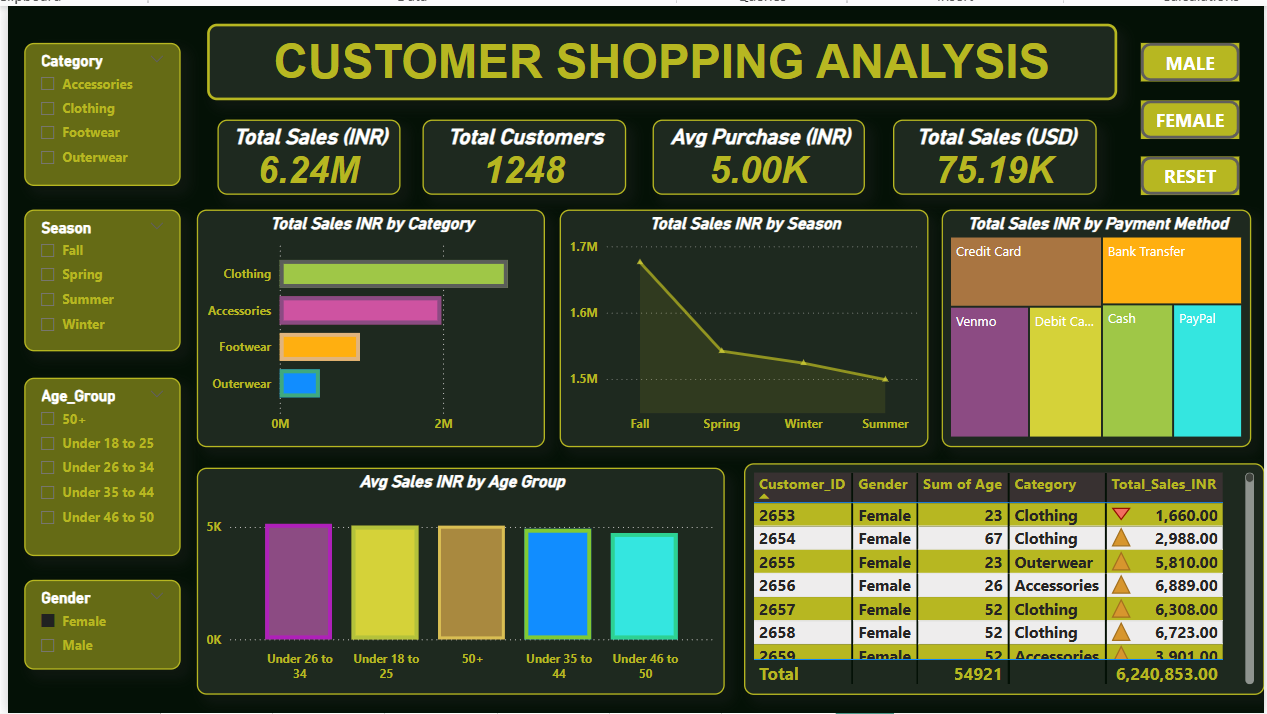

This screenshot's page, from the dashboard's own definition file:
{"tool":"powerbi","page":{"name":"Main","canvas":[1280,720],"ordinal":0},"visuals":[{"type":"card","title":"Total Sales (INR)","fields":{"Values":["Measure.Total_Sales_INR"]},"box":[213.3,115.7,186.3,76.6],"z":0},{"type":"card","title":"Total Customers","fields":{"Values":["Measure.Total_Customers"]},"box":[422.1,115.7,207.3,76.6],"z":1000},{"type":"card","title":"Avg Purchase (INR)","fields":{"Values":["Measure.Avg_Sales_INR"]},"box":[656.4,115.7,216.3,76.6],"z":2000},{"type":"card","title":"Total Sales (USD)","fields":{"Values":["Measure.Total_Sales_USD"]},"box":[901.2,115.7,207.3,76.6],"z":3000},{"type":"textbox","box":[202.8,18,926.8,78.1],"z":4000},{"type":"barChart","title":"Total Sales INR by Category","fields":{"Category":["shopping shopping_trends.Category"],"Y":["Measure.Total_Sales_INR"]},"box":[192.3,207.3,354.5,241.8],"z":5000},{"type":"columnChart","title":"Avg Sales INR by Age Group","fields":{"Category":["shopping shopping_trends.Age_Group"],"Y":["Measure.Avg_Sales_INR"]},"box":[192.3,470.1,537.7,231.3],"z":6000},{"type":"treemap","title":"Total Sales INR by Payment Method","fields":{"Group":["shopping shopping_trends.Payment_Method"],"Values":["Measure.Total_Sales_INR"]},"box":[950.8,207.3,315.4,241.8],"z":7000},{"type":"slicer","fields":{"Values":["shopping shopping_trends.Category"]},"box":[16.5,37.6,159.2,145.7],"z":8000},{"type":"slicer","fields":{"Values":["shopping shopping_trends.Age_Group"]},"box":[16.5,378.5,159.2,181.7],"z":10000},{"type":"slicer","fields":{"Values":["shopping shopping_trends.Season"]},"box":[16.5,207.3,159.2,144.2],"z":11000},{"type":"lineChart","title":"Total Sales INR by Season","fields":{"Category":["shopping shopping_trends.Season"],"Y":["Measure.Total_Sales_INR"]},"box":[561.8,207.3,375.5,241.8],"z":12000},{"type":"tableEx","fields":{"Values":["shopping shopping_trends.Customer_ID","shopping shopping_trends.Gender","Sum(shopping shopping_trends.Age)","shopping shopping_trends.Category","Measure.Total_Sales_INR"]},"box":[749.5,465.6,530.2,235.8],"z":13000},{"type":"slicer","fields":{"Values":["shopping shopping_trends.Gender"]},"box":[16.5,584.3,159.2,91.6],"z":14000},{"type":"actionButton","box":[1153.6,37.6,100.6,39.1],"z":15000},{"type":"actionButton","box":[1153.6,96.1,100.6,39.1],"z":16000},{"type":"actionButton","box":[1153.6,153.2,100.6,39.1],"z":17000}]}

Visuals, with their boxes in screenshot pixels (x1, y1, x2, y2), scaled from the page's 1280x720 canvas onto the 1267x714 screenshot:
"Total Sales (INR)" card: <box>211,115,396,191</box>
"Total Customers" card: <box>418,115,623,191</box>
"Avg Purchase (INR)" card: <box>650,115,864,191</box>
"Total Sales (USD)" card: <box>892,115,1097,191</box>
textbox: <box>201,18,1118,95</box>
"Total Sales INR by Category" barChart: <box>190,206,541,445</box>
"Avg Sales INR by Age Group" columnChart: <box>190,466,723,696</box>
"Total Sales INR by Payment Method" treemap: <box>941,206,1253,445</box>
slicer - shopping shopping_trends.Category: <box>16,37,174,182</box>
slicer - shopping shopping_trends.Age_Group: <box>16,375,174,556</box>
slicer - shopping shopping_trends.Season: <box>16,206,174,349</box>
"Total Sales INR by Season" lineChart: <box>556,206,928,445</box>
tableEx - shopping shopping_trends.Customer_ID x shopping shopping_trends.Gender: <box>742,462,1266,696</box>
slicer - shopping shopping_trends.Gender: <box>16,579,174,670</box>
actionButton: <box>1142,37,1241,76</box>
actionButton: <box>1142,95,1241,134</box>
actionButton: <box>1142,152,1241,191</box>
